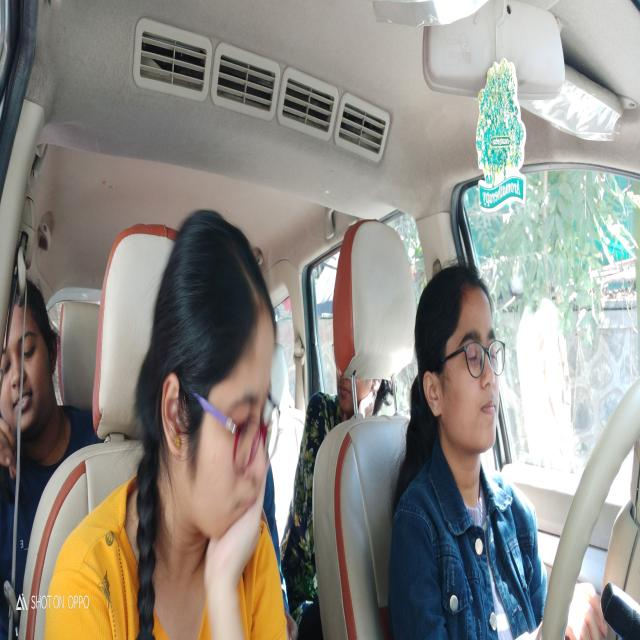drowsy: (414, 246, 511, 469)
person: (160, 213, 290, 575), (8, 289, 65, 443)
